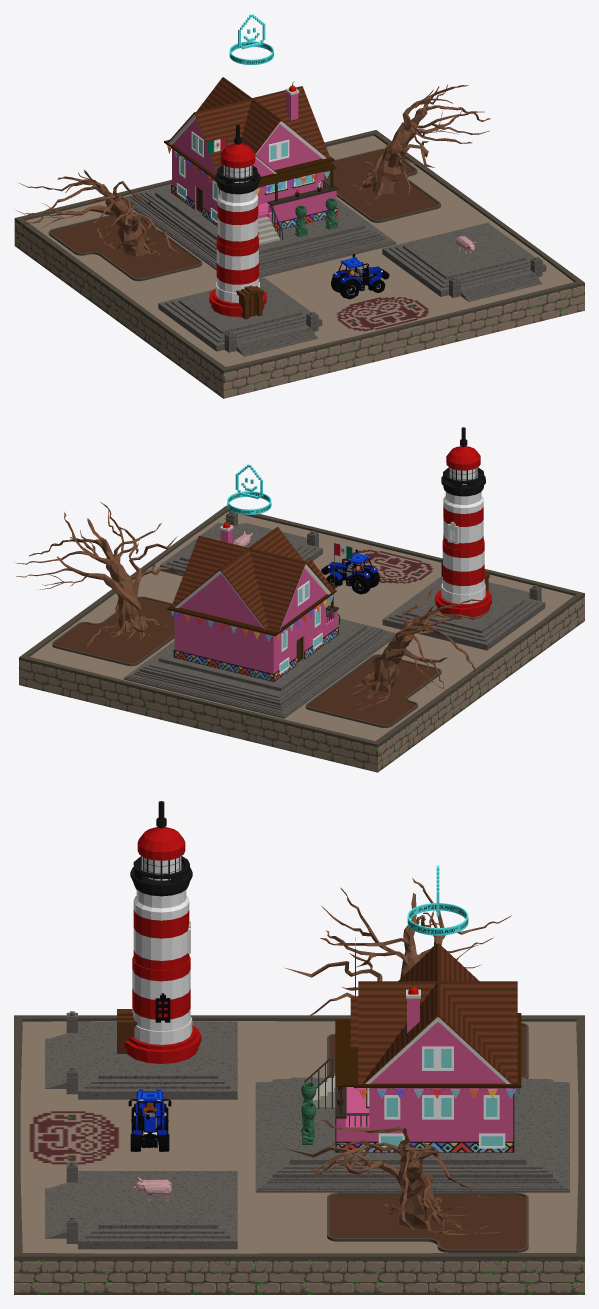
3 renders of one model, top to bottom at view 1: azimuth 30°, elevation 25°; view 2: azimuth 150°, elevation 25°; view 3: azimuth 270°, elevation 25°, orthographic. The views are drawn at different scales.
Parts seen in each view (by area): view 1: Cube.011, Cube.1005, OBJRANDOM_LIGHTHOUSE, VEHICLES_TRACTOR, TYPE_PREMIUM; view 2: Cube.011, Cube.1005, OBJRANDOM_LIGHTHOUSE, VEHICLES_TRACTOR, TYPE_PREMIUM; view 3: Cube.011, Cube.1005, OBJRANDOM_LIGHTHOUSE, VEHICLES_TRACTOR, TYPE_PREMIUM.
Part boxes in pixels (x1,y1,x2,y2): Cube.011: [14, 84, 584, 398]; Cube.1005: [164, 77, 338, 244]; OBJRANDOM_LIGHTHOUSE: [209, 124, 266, 319]; VEHICLES_TRACTOR: [331, 253, 389, 299]; TYPE_PREMIUM: [229, 14, 273, 64]; Cube.011: [14, 502, 584, 772]; Cube.1005: [167, 518, 352, 681]; OBJRANDOM_LIGHTHOUSE: [435, 427, 491, 617]; VEHICLES_TRACTOR: [321, 549, 379, 594]; TYPE_PREMIUM: [227, 464, 271, 514]; Cube.011: [14, 878, 584, 1294]; Cube.1005: [304, 937, 521, 1152]; OBJRANDOM_LIGHTHOUSE: [117, 801, 201, 1063]; VEHICLES_TRACTOR: [128, 1089, 171, 1151]; TYPE_PREMIUM: [407, 865, 468, 935].
Bounding box in the file's own units: 5099 × 2417 × 4000.
73 materials, 9 textured.
